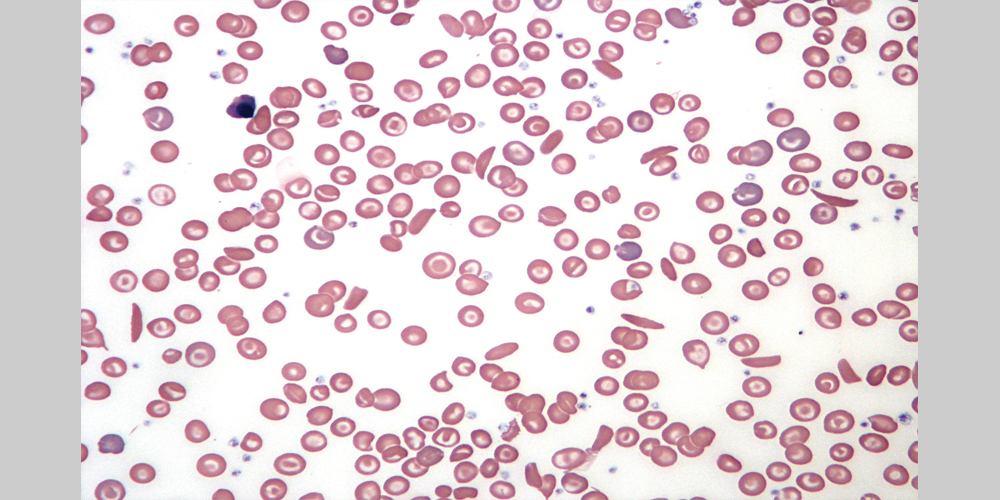redbloodcell: (408, 248, 459, 282), (507, 287, 551, 317), (394, 322, 439, 350), (144, 136, 182, 164), (452, 304, 490, 330), (649, 87, 680, 116), (753, 31, 790, 55), (550, 228, 579, 252)
sicklecell: (806, 183, 864, 213), (614, 308, 667, 331), (588, 57, 629, 86), (405, 204, 438, 239), (471, 142, 501, 180), (733, 353, 787, 373), (636, 142, 680, 166), (123, 302, 146, 347), (539, 128, 569, 156), (484, 339, 518, 363)
